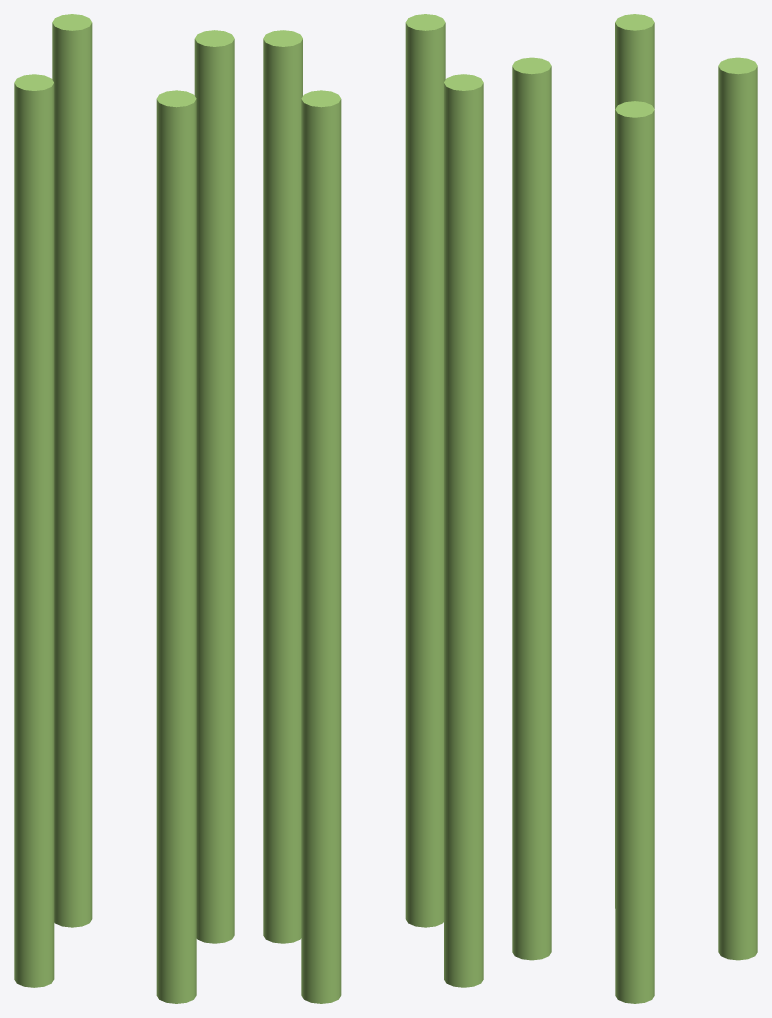
Rendered from Pillar_02_x2_Lod0.fbx.
3 views of the same model, side by side, from view 1: azimuth 30°, elevation 25°; view 2: azimuth 150°, elevation 25°; view 3: azimuth 270°, elevation 25° (orthographic).
Parts seen in each view (by area): view 1: Pillar_02_x2_Lod0; view 2: Pillar_02_x2_Lod0; view 3: Pillar_02_x2_Lod0.
Part boxes in pixels (left/top/right/bottom): Pillar_02_x2_Lod0: left=14, top=14, right=234, bottom=1003; Pillar_02_x2_Lod0: left=263, top=14, right=483, bottom=1003; Pillar_02_x2_Lod0: left=512, top=14, right=757, bottom=1003.
Bounding box in the file's own units: 147 × 583 × 147.
